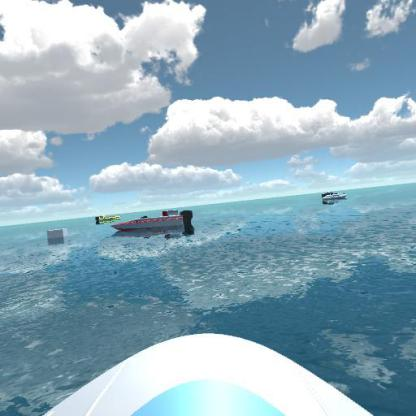usv1: (321, 188, 347, 205)
usv2: (92, 210, 121, 227)
usv3: (110, 208, 200, 234)
